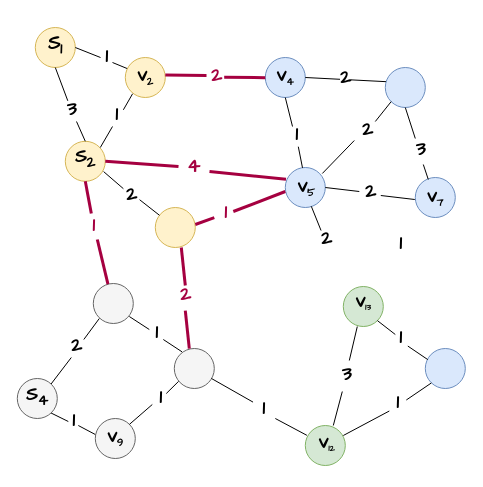
Image size: 483x487. Some labels were removed from this diagram. The shapes that lost their labels are listed below. From the top down, each one's centre as x and y in pixels, then its label:
the point at 404,87: v 6
the point at 174,227: v 3
the point at 112,303: S 3
the point at 193,368: v 11
the point at 444,368: v 14
